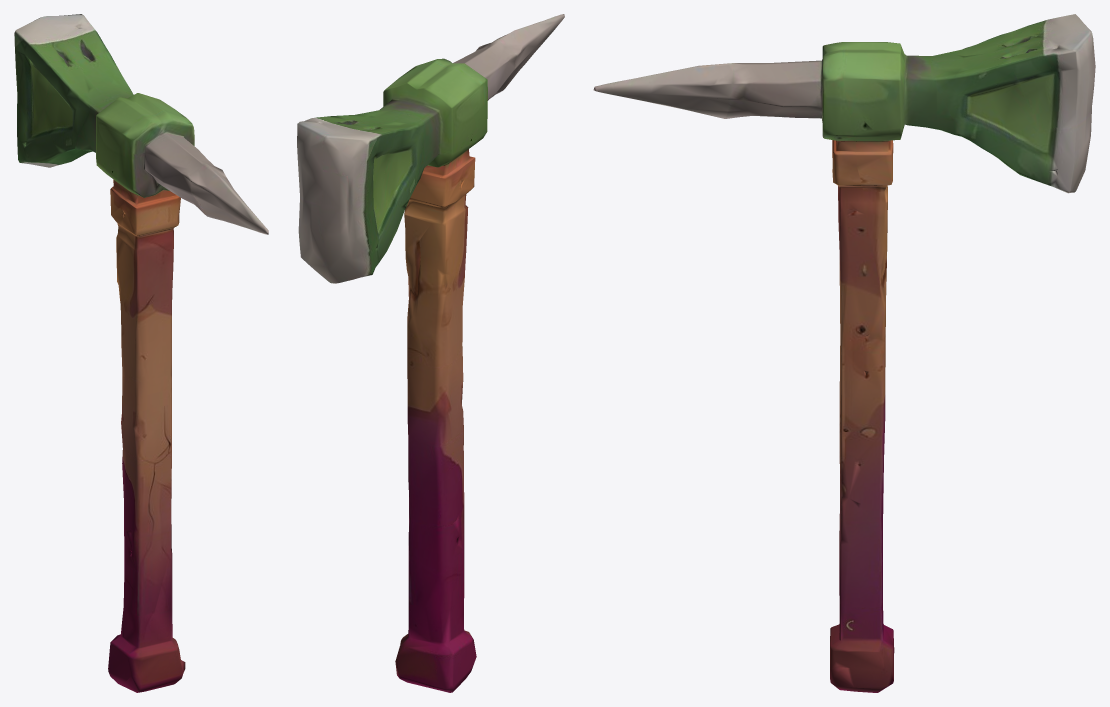
The model's file is pickaxe.glb.
3 renders of one model, left to right at view 1: azimuth 30°, elevation 25°; view 2: azimuth 150°, elevation 25°; view 3: azimuth 270°, elevation 25°, orthographic. The views are drawn at different scales.
Visible parts, largest first — view 1: tripo_node_943a84f3-b845-4fed-9bd1-5926114a6b87; view 2: tripo_node_943a84f3-b845-4fed-9bd1-5926114a6b87; view 3: tripo_node_943a84f3-b845-4fed-9bd1-5926114a6b87.
Part boxes in pixels (left/top/right/bottom): tripo_node_943a84f3-b845-4fed-9bd1-5926114a6b87: left=14, top=14, right=268, bottom=692; tripo_node_943a84f3-b845-4fed-9bd1-5926114a6b87: left=297, top=14, right=564, bottom=692; tripo_node_943a84f3-b845-4fed-9bd1-5926114a6b87: left=593, top=14, right=1095, bottom=692.
Size of the model in its own units: 0.1213 by 1 by 0.6985.
1 material, 1 textured.
